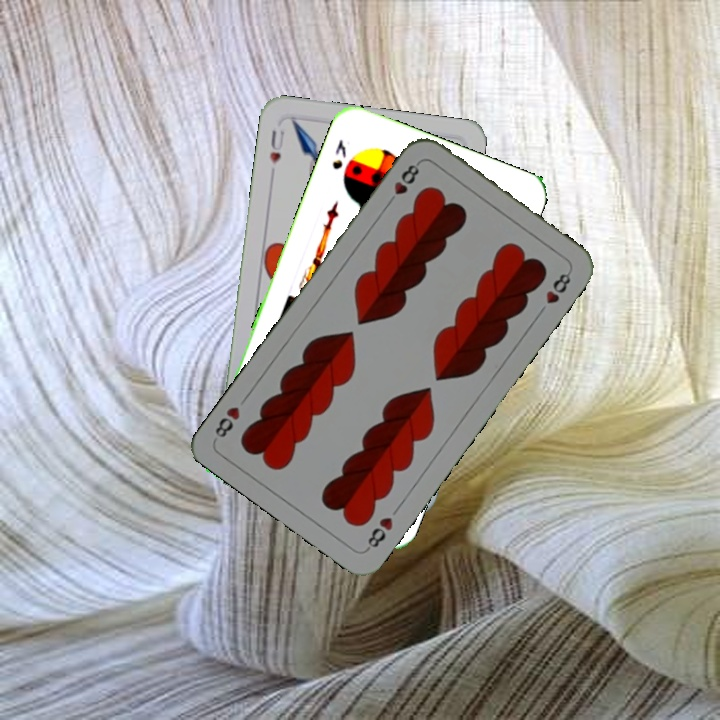H8: (382, 158, 423, 209), (362, 513, 396, 553)
HU: (265, 126, 288, 167)
SK: (328, 135, 349, 172)
